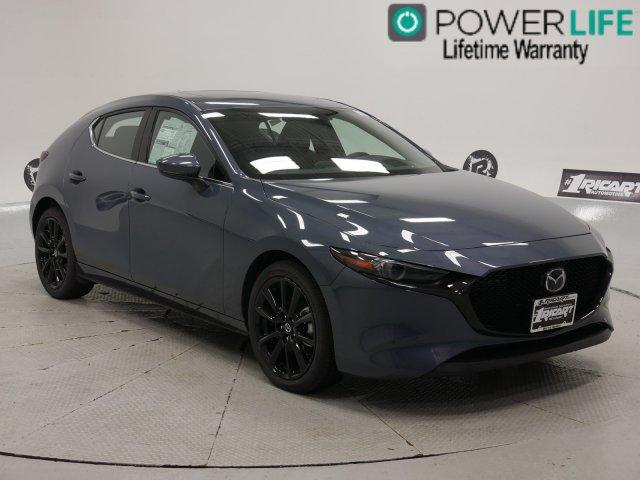Mazda3 Hatchback: (25, 87, 616, 400)
